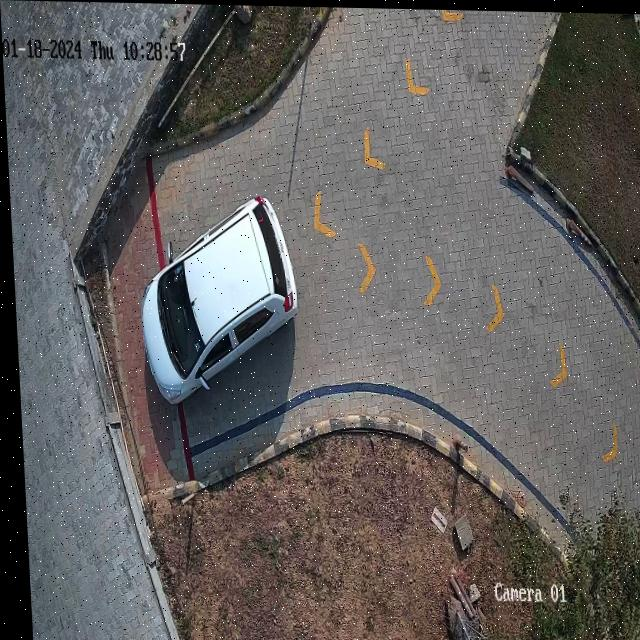car: (136, 192, 295, 405)
